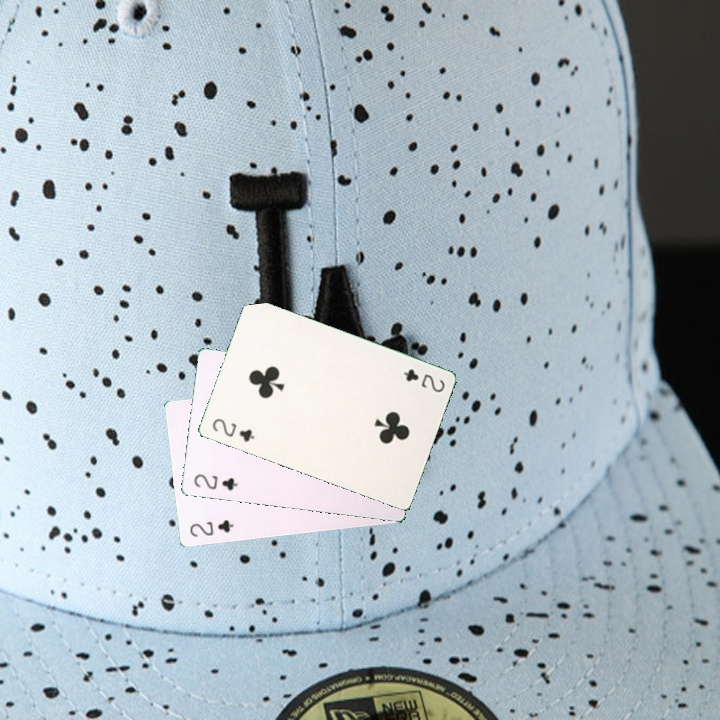2c: (208, 414, 257, 445), (400, 365, 448, 395), (186, 516, 236, 540), (190, 470, 240, 493)
